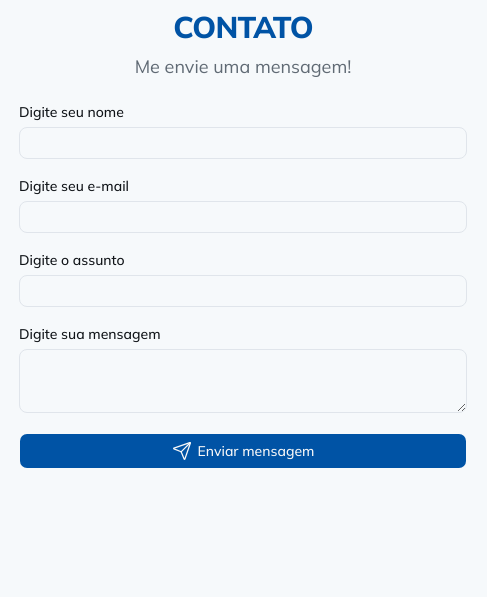
Test: ContactForm › validates required fields and does not submit
The width and height of the screenshot is (487, 597).
Click the button "Enviar mensagem" at (243, 451), box top-left (19, 433), bottom-right (467, 469)
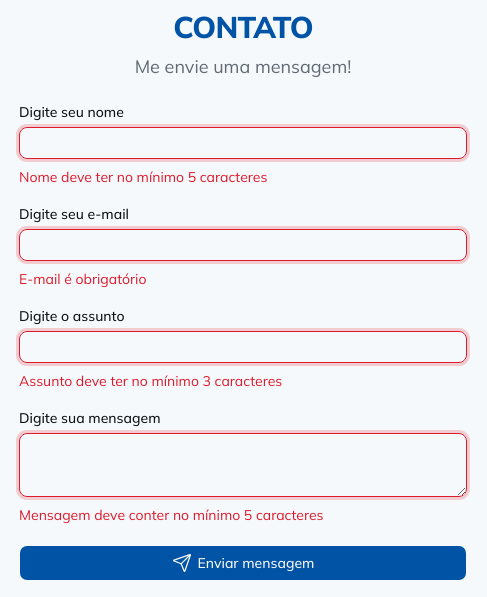
expect the text "Nome deve ter no mínimo 5 caracteres" is shown: met, box top-left (19, 168), bottom-right (267, 186)
expect the text "E-mail é obrigatório" is shown: met, box top-left (19, 270), bottom-right (146, 288)
expect the text "Assunto deve ter no mínimo 3 caracteres" is shown: met, box top-left (19, 372), bottom-right (282, 390)
